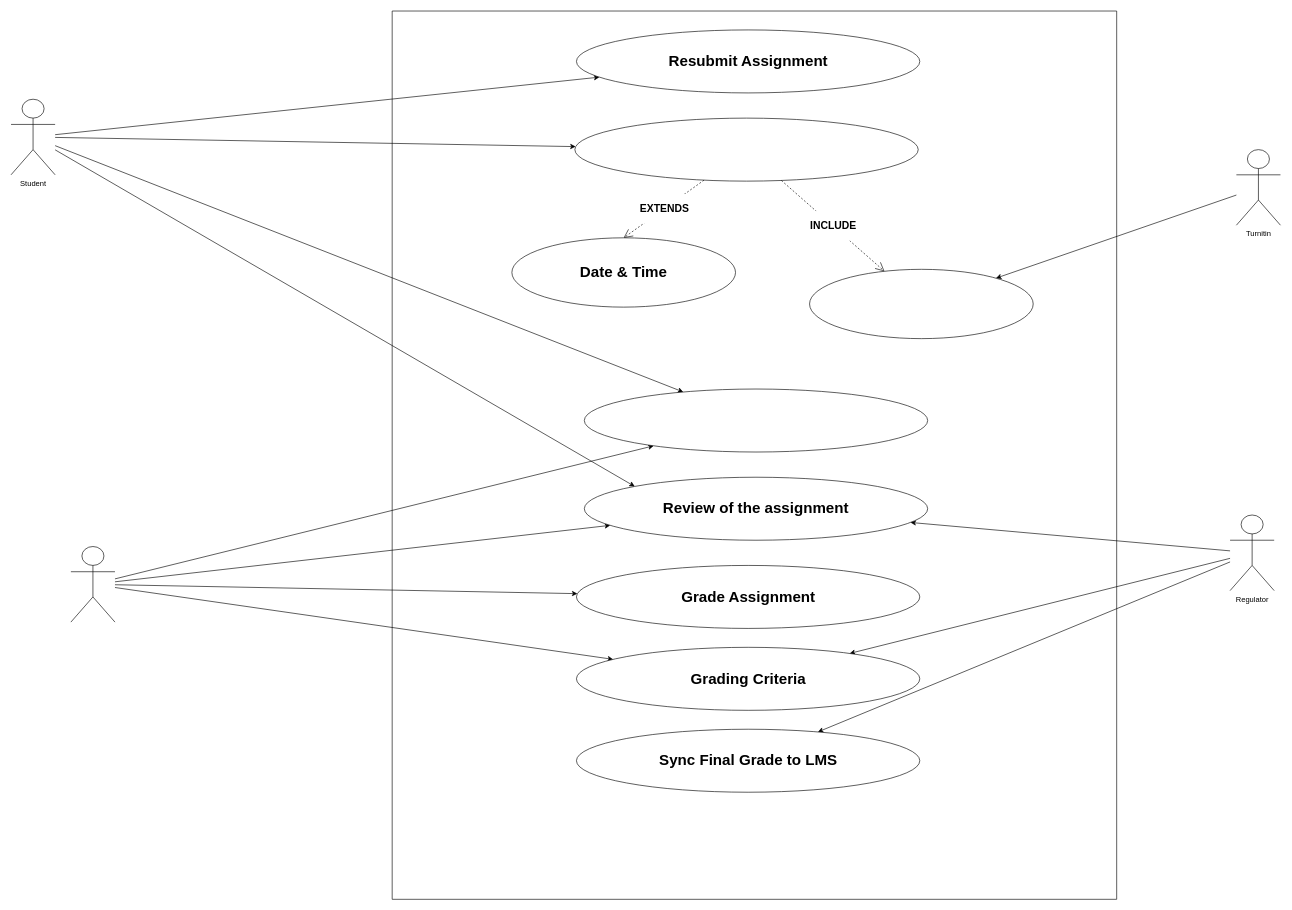
The diagram is 1292 pixels wide and 910 high, and some of its shapes have lost their labels. The centre of each missing label's shape, as x and y in pixels:
Plagiarism: point 921,304
Professor: point 92,584
Submit Assignment: point 746,149
View Grade: point 756,420
